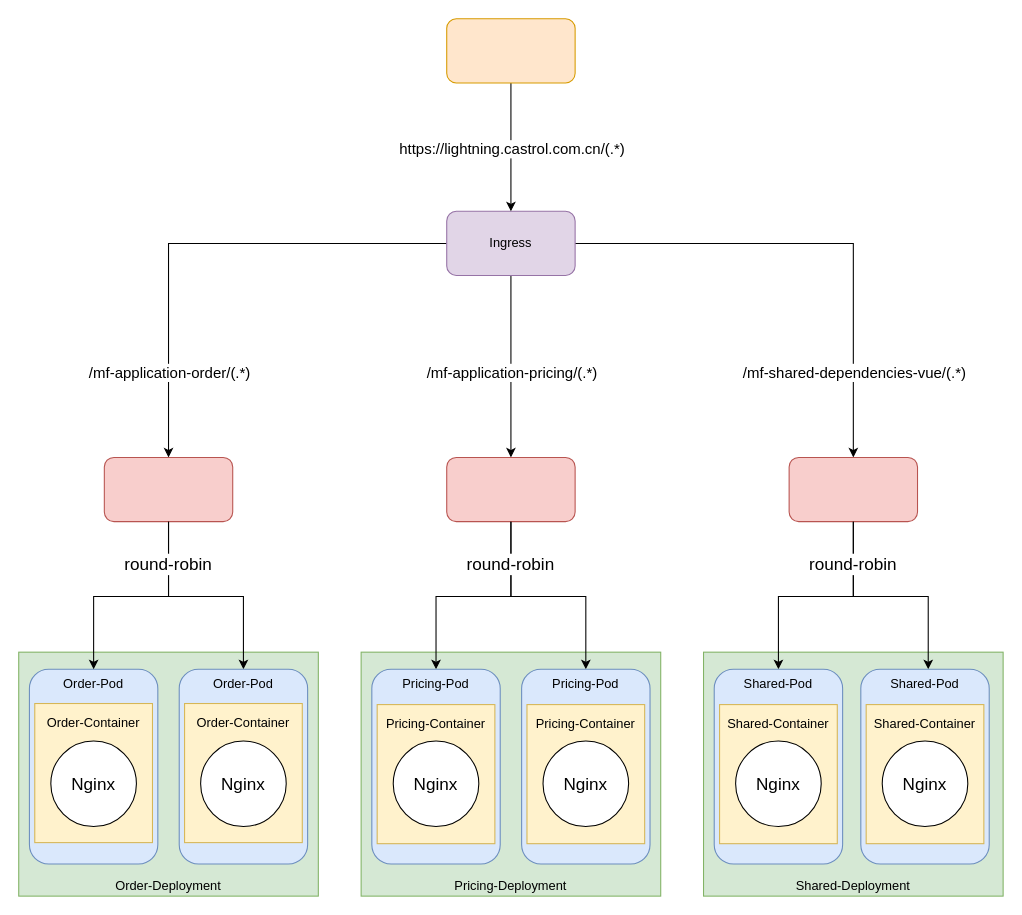
This 1022x915 diagram has some shape labels left out. The centre of each missing label's shape, as x and y in pixels:
Network-Request: the point at 510,50
Order-Service: the point at 168,489
Pricing-Service: the point at 510,489
Shared-Service: the point at 853,489
